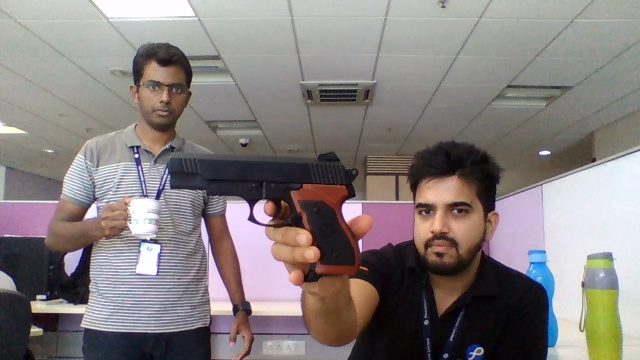gun: (166, 150, 354, 223)
